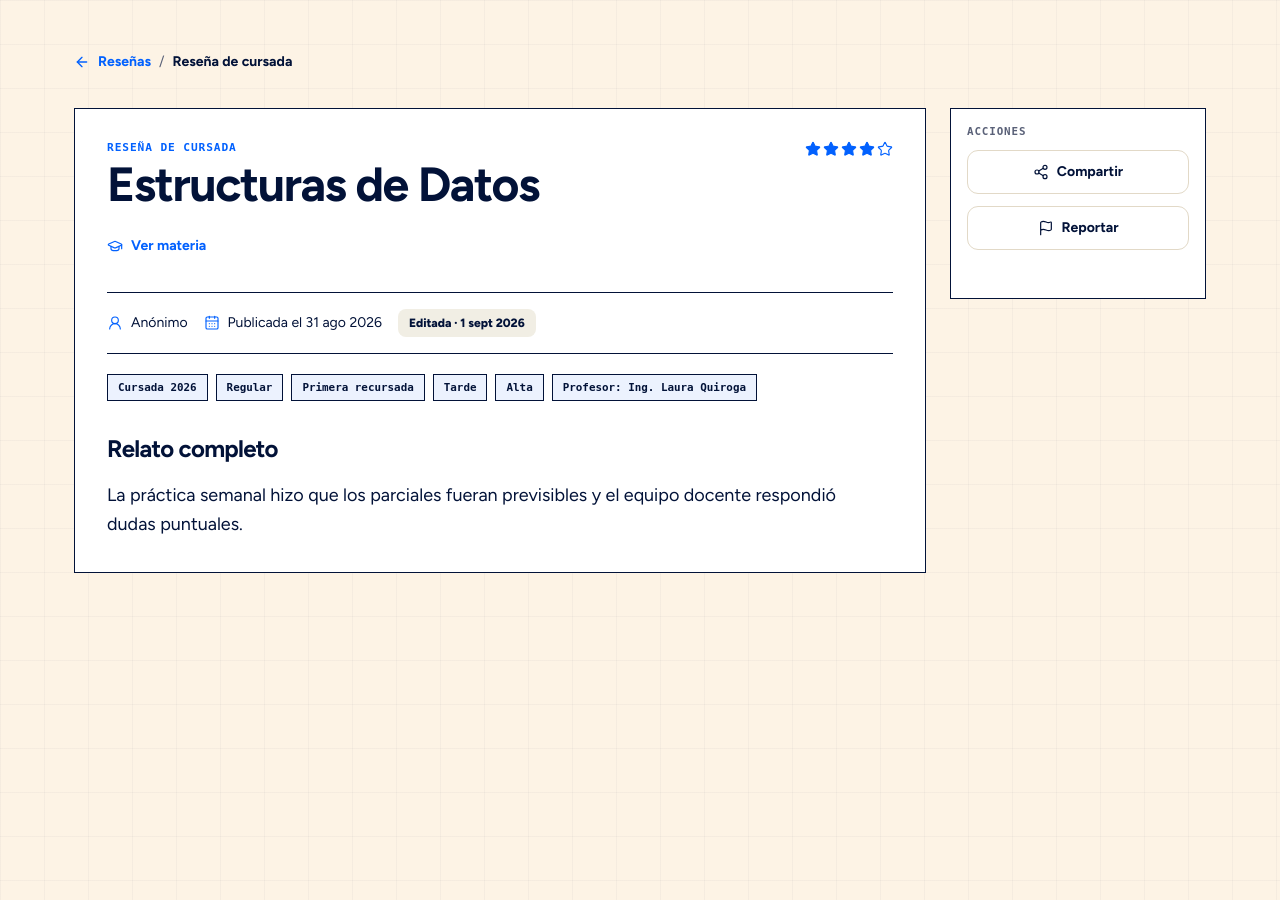
Test case: CommunityDetailPage › requires an explanation for the other report reason before submitting
The image size is (1280, 900).
Expected: the heading "Estructuras de Datos" is shown, [107,162,539,208]
Click the button "Reportar" at (1078, 228), box [967,206,1189,250]
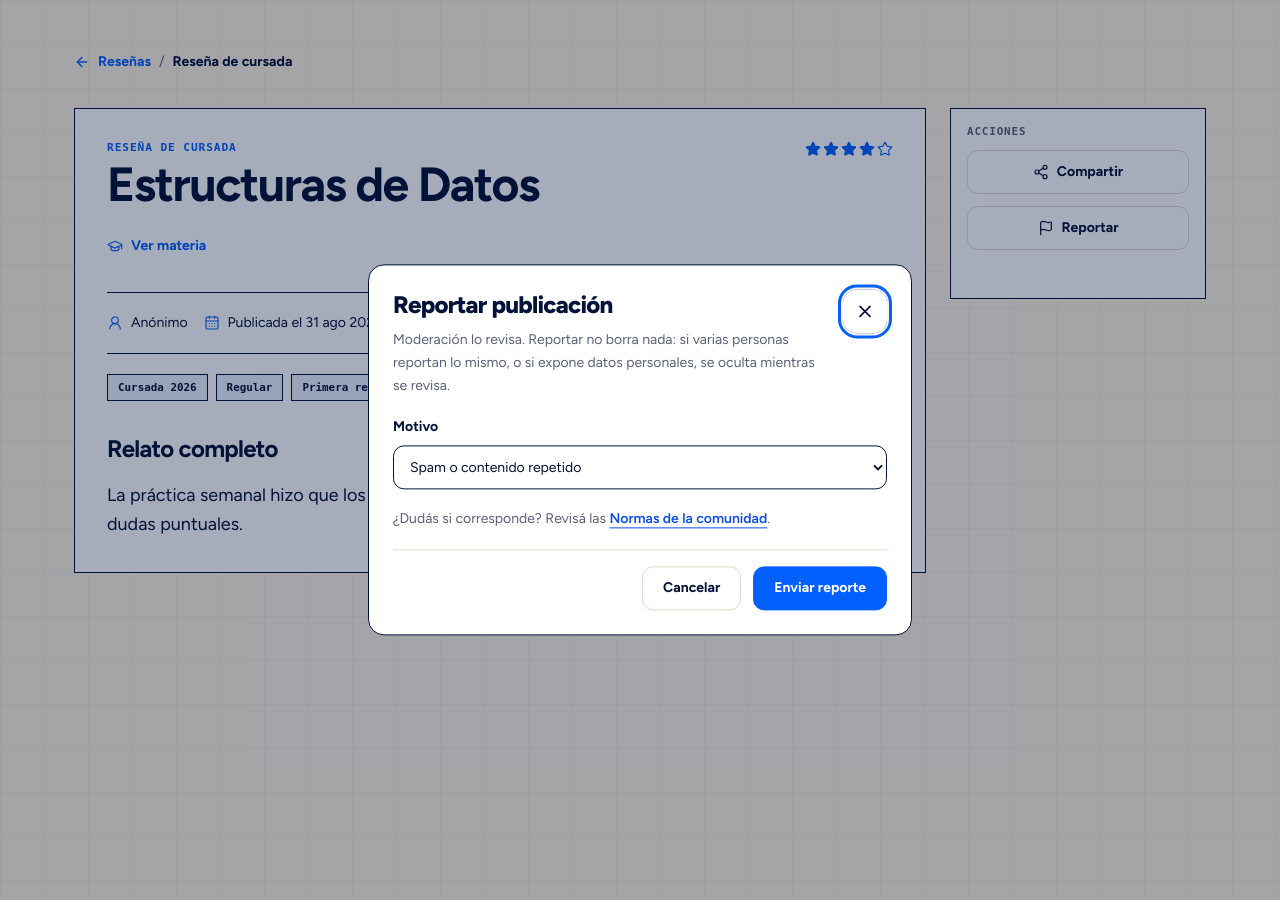
Select "Otro motivo" in the dropdown labelled "Motivo" at (640, 468), box [393,446,887,490]
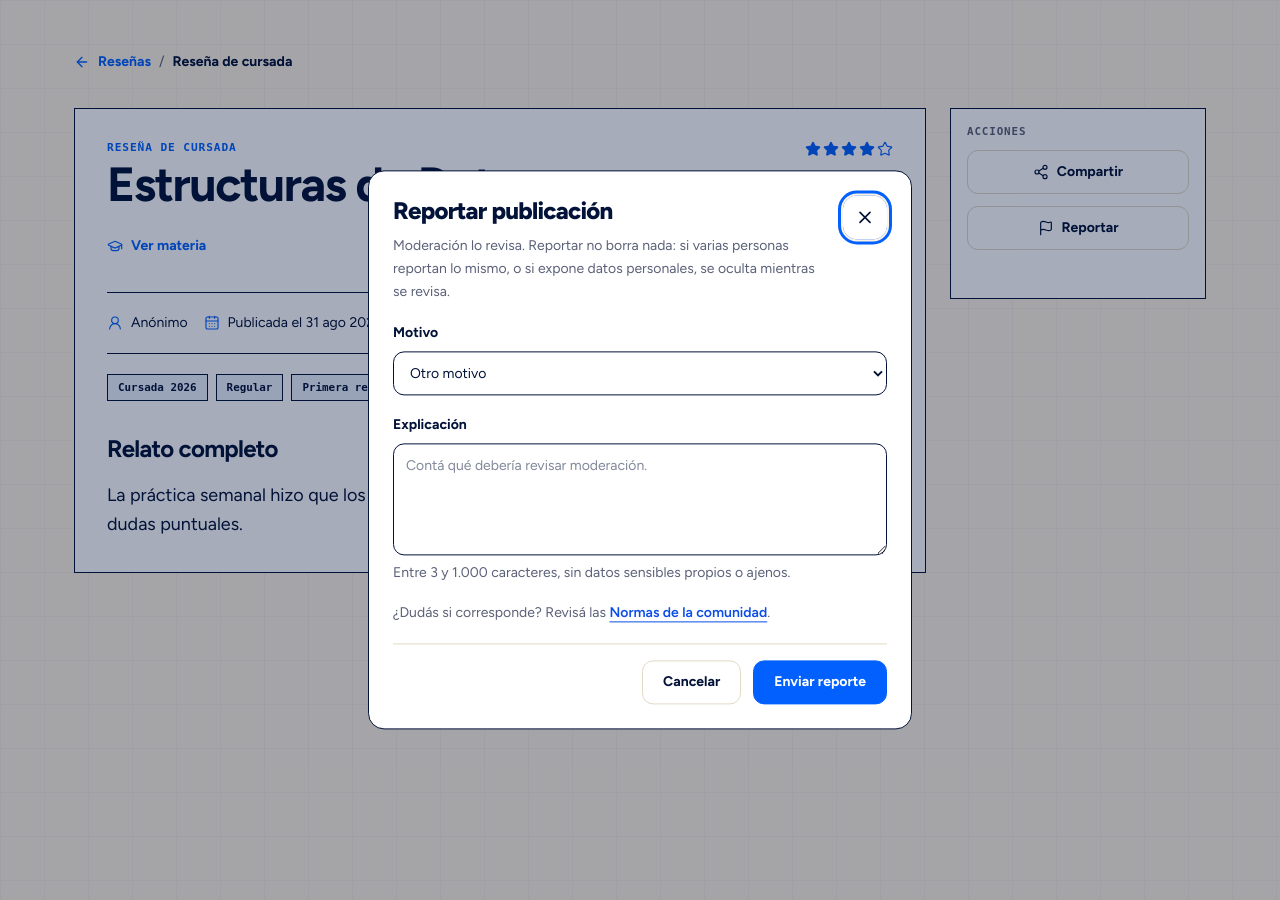
Click the button "Enviar reporte" at (820, 683), box [753,661,887,705]
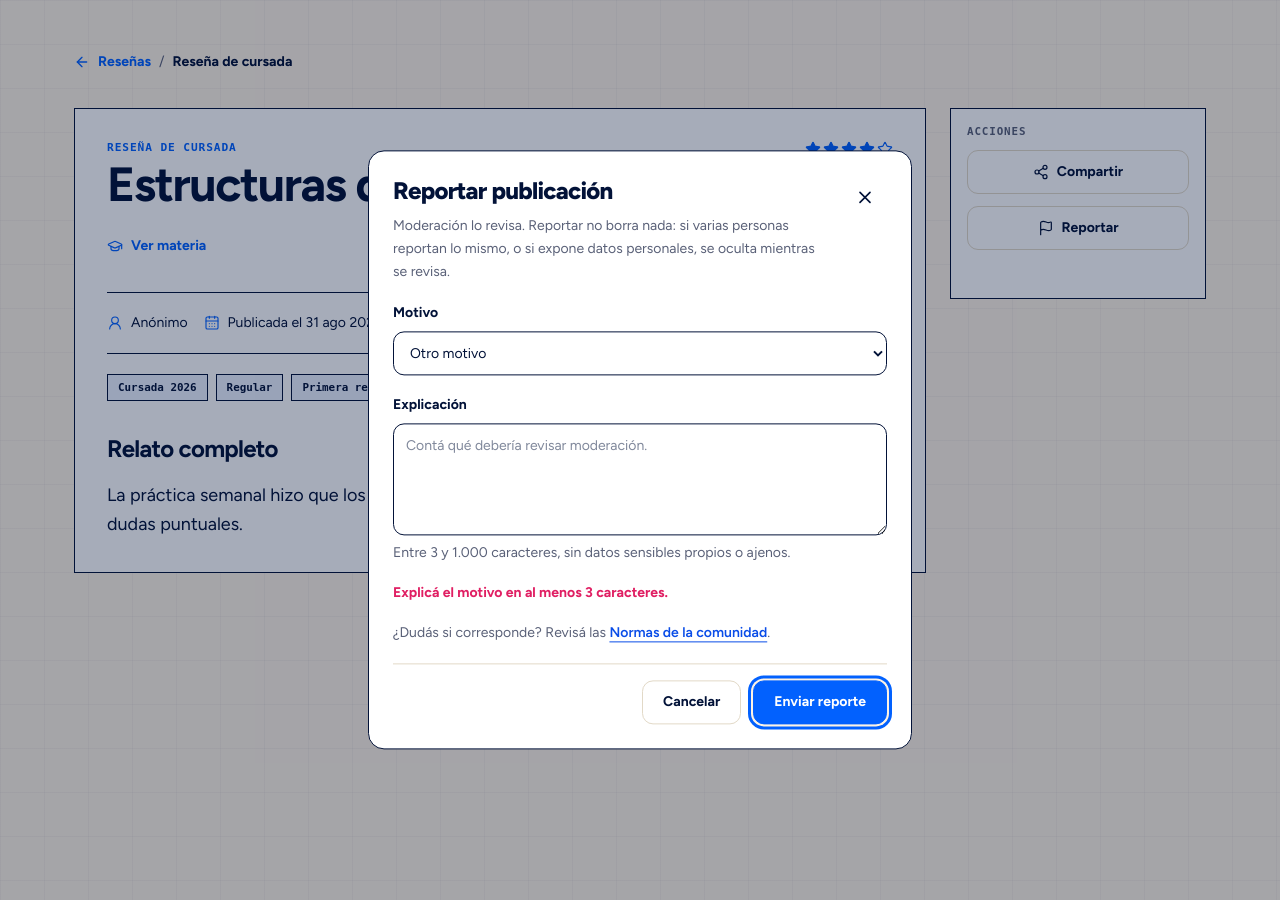
Result: the message reads "Explicá el motivo en al menos 3 caracteres." at [393,585,668,602]
